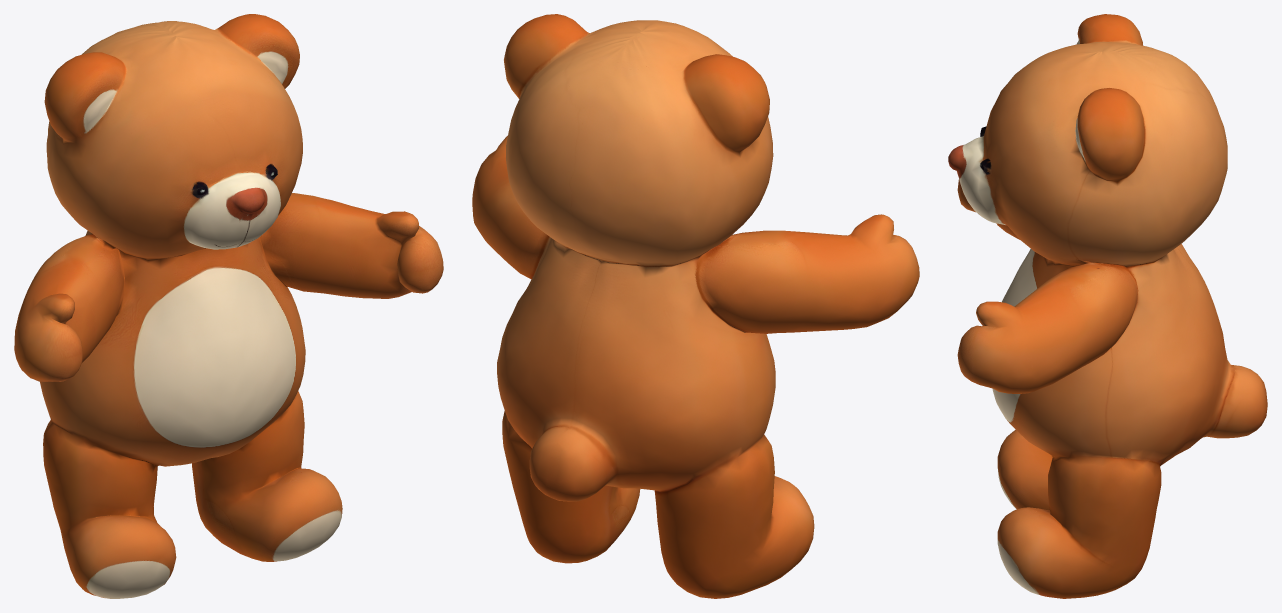
File: bramble_bear_rig.glb
The picture shows the model from 3 angles, left to right: view 1: azimuth 30°, elevation 25°; view 2: azimuth 150°, elevation 25°; view 3: azimuth 270°, elevation 25°; orthographic projection. The views are drawn at different scales.
Bounding box in the file's own units: 1.58 × 1.91 × 1.09.
Materials: 1 (1 with a texture image).
